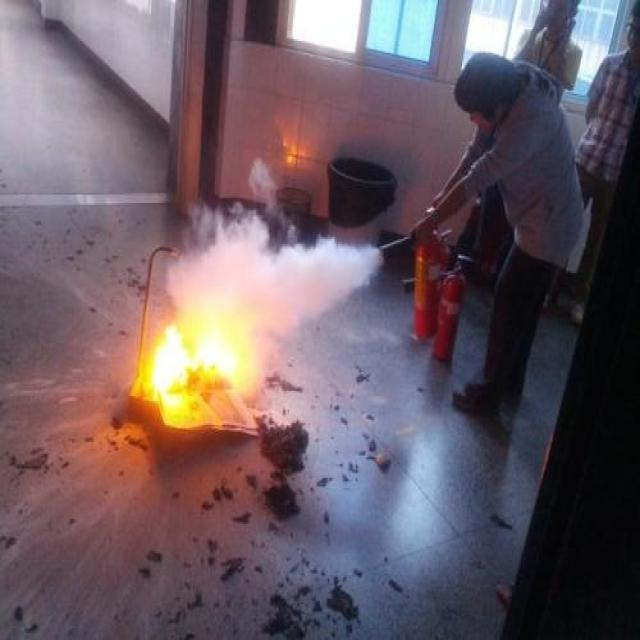fire: (147, 318, 276, 441)
